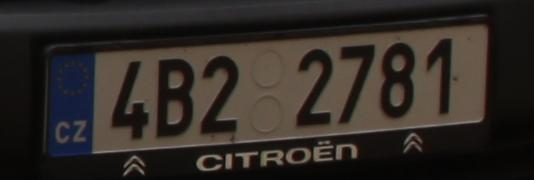1: (428, 38, 452, 114)
2: (201, 57, 237, 133), (299, 48, 330, 127)
4: (112, 62, 149, 138)
7: (342, 46, 374, 124)
8: (381, 44, 412, 117)
B: (159, 60, 193, 137)
